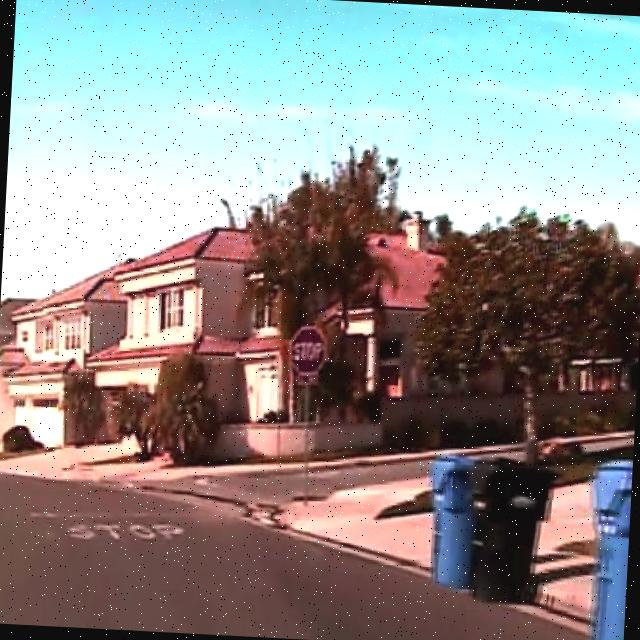Stop: (286, 324, 329, 378)
